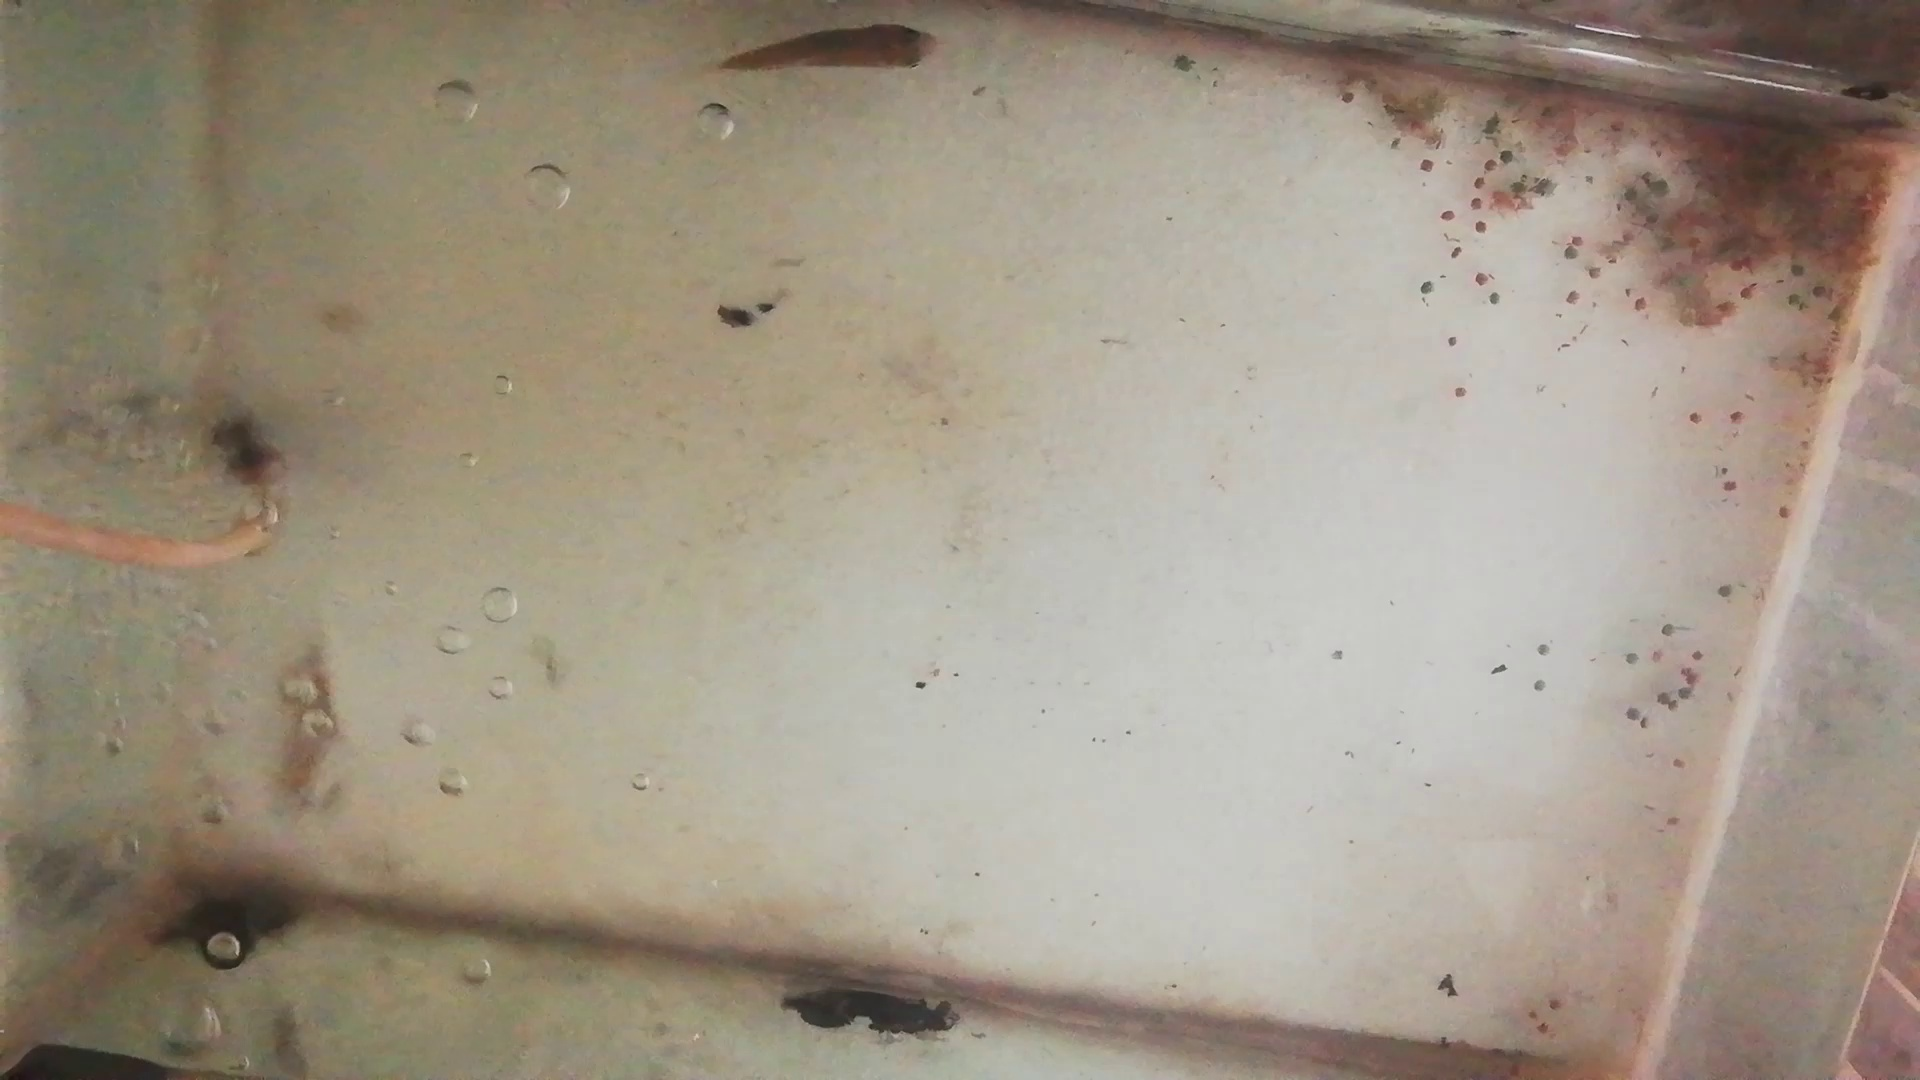fish: (278, 611, 331, 841), (724, 26, 945, 79)
